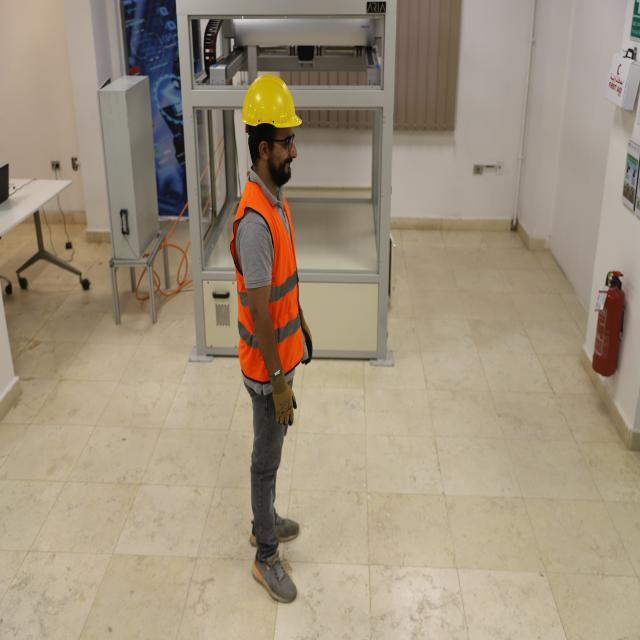glove: (267, 364, 297, 428)
helmet: (240, 70, 304, 134)
pants: (244, 368, 298, 548)
vest: (233, 176, 310, 366)
